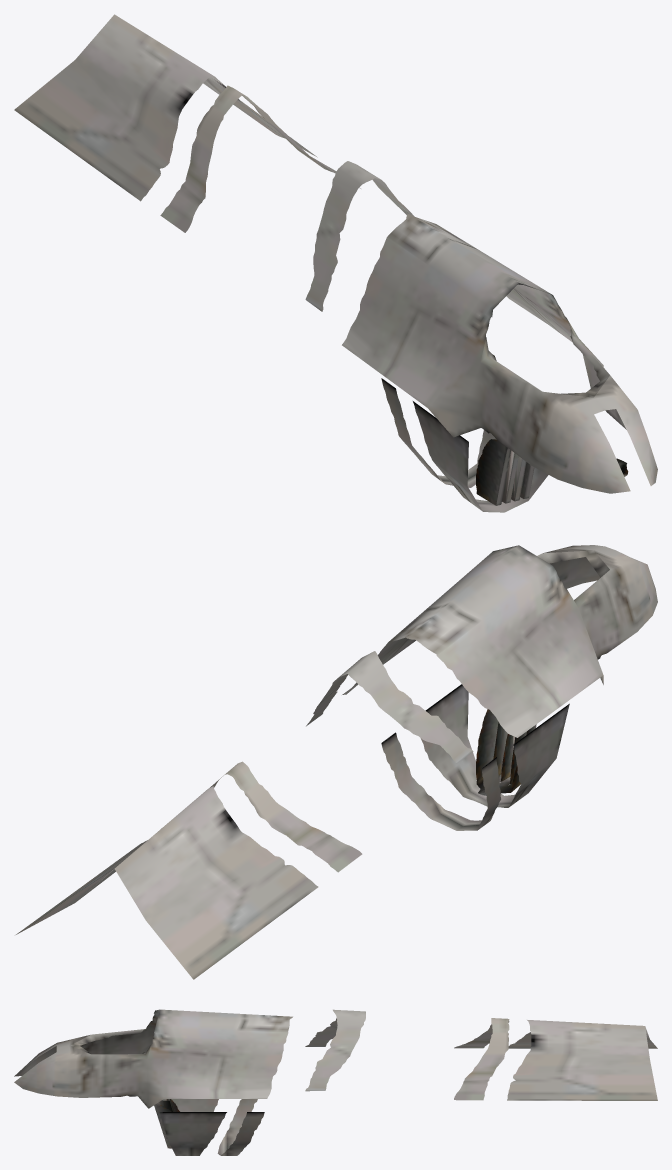
File: hutt_fighter_medium_body_s02_l2.fbx
3 renders of one model, top to bottom at view 1: azimuth 30°, elevation 25°; view 2: azimuth 150°, elevation 25°; view 3: azimuth 270°, elevation 25°, orthographic. The views are drawn at different scales.
Parts seen in each view (by area): view 1: mesh_node; view 2: mesh_node; view 3: mesh_node.
Boxes of the visible parts, left/top/right/bottom form: mesh_node: left=14, top=14, right=657, bottom=512; mesh_node: left=16, top=545, right=657, bottom=979; mesh_node: left=14, top=1009, right=657, bottom=1155.
Size of the model in its own units: 5.07 by 6.54 by 26.25.
